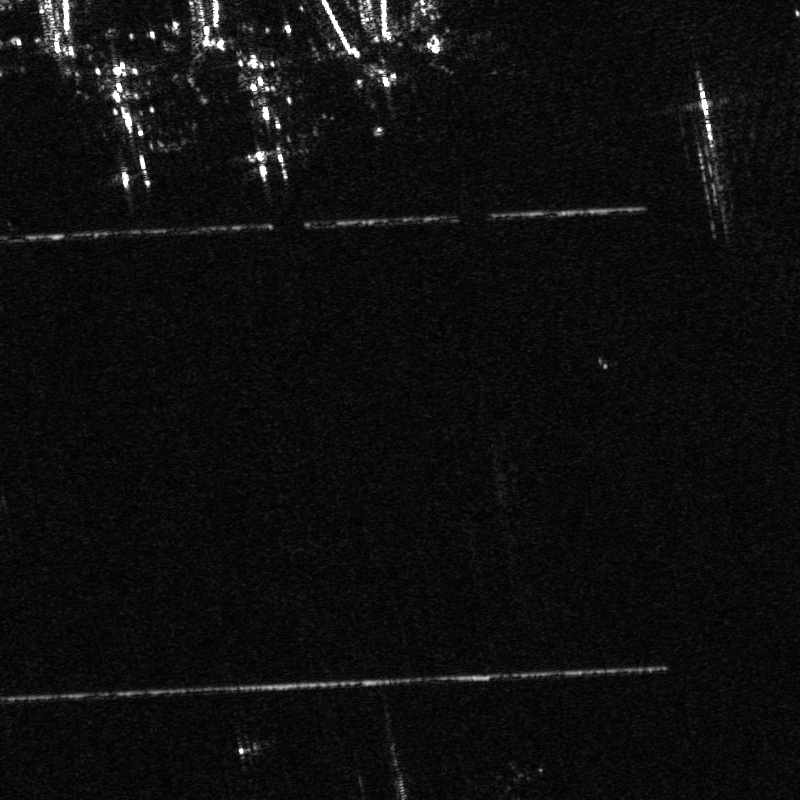Boeing737: (353, 64, 417, 122)
Boeing787: (96, 77, 174, 192)
other: (221, 72, 312, 184)
